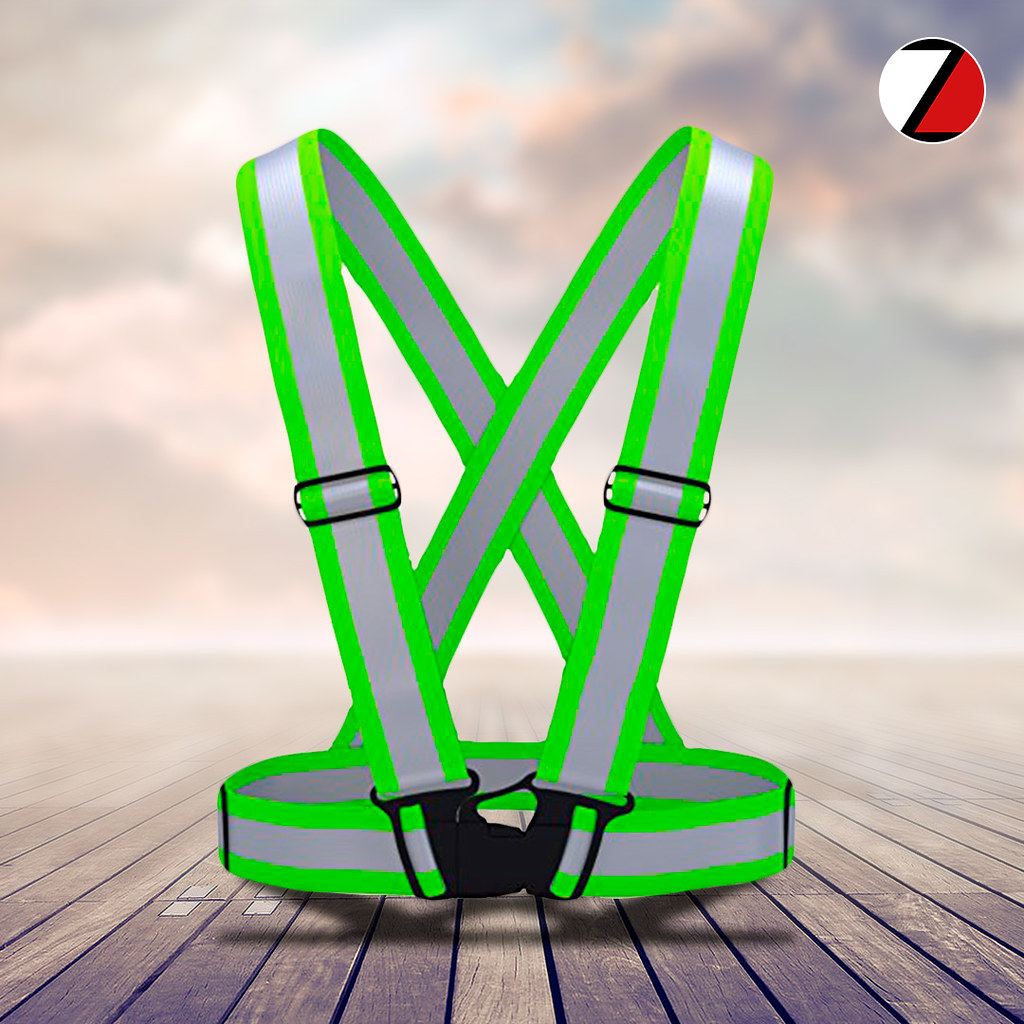Reflective vest: (205, 122, 804, 910)
